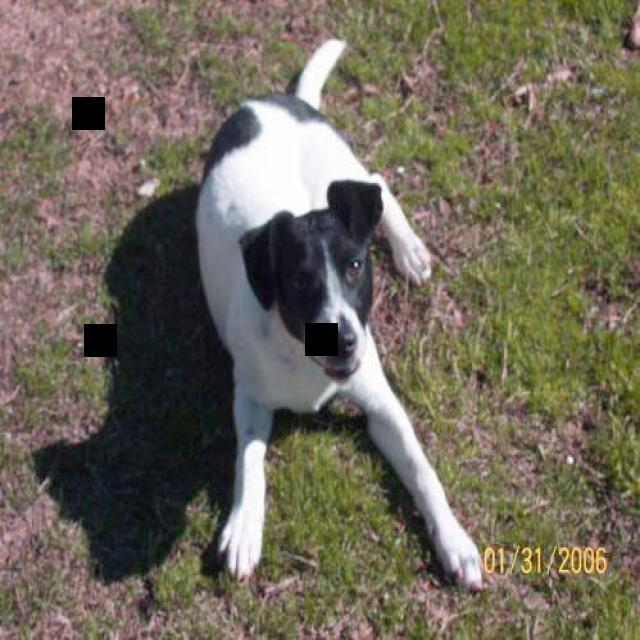adult_dog: (193, 39, 487, 597)
